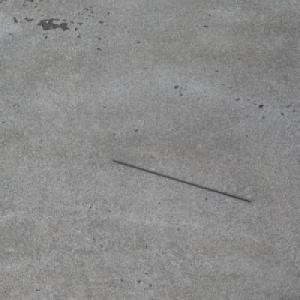LuggagePart: (111, 159, 252, 203)
